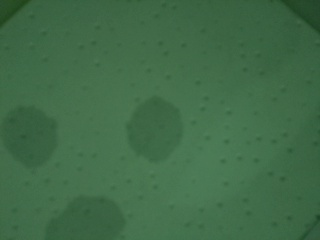Water_detected: (127, 100, 186, 161), (51, 200, 120, 240), (9, 106, 57, 162)
